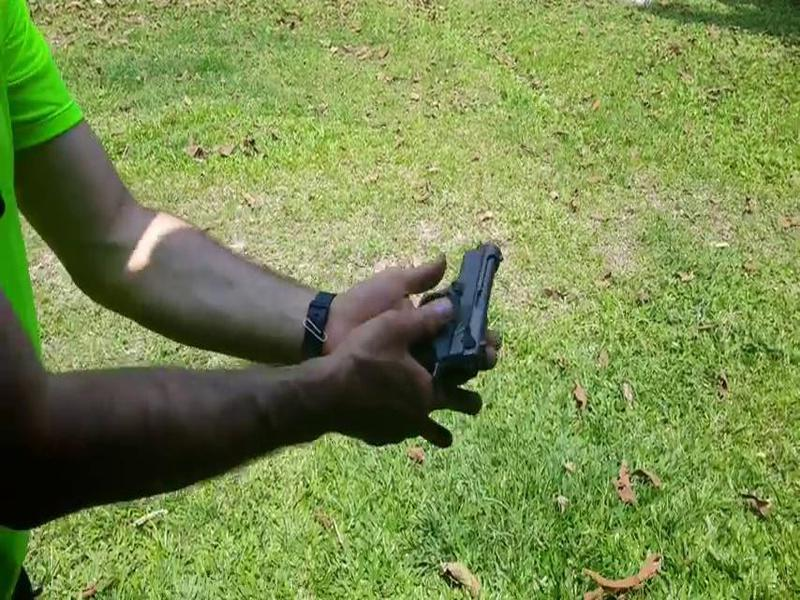Pistola: (394, 231, 538, 381)
